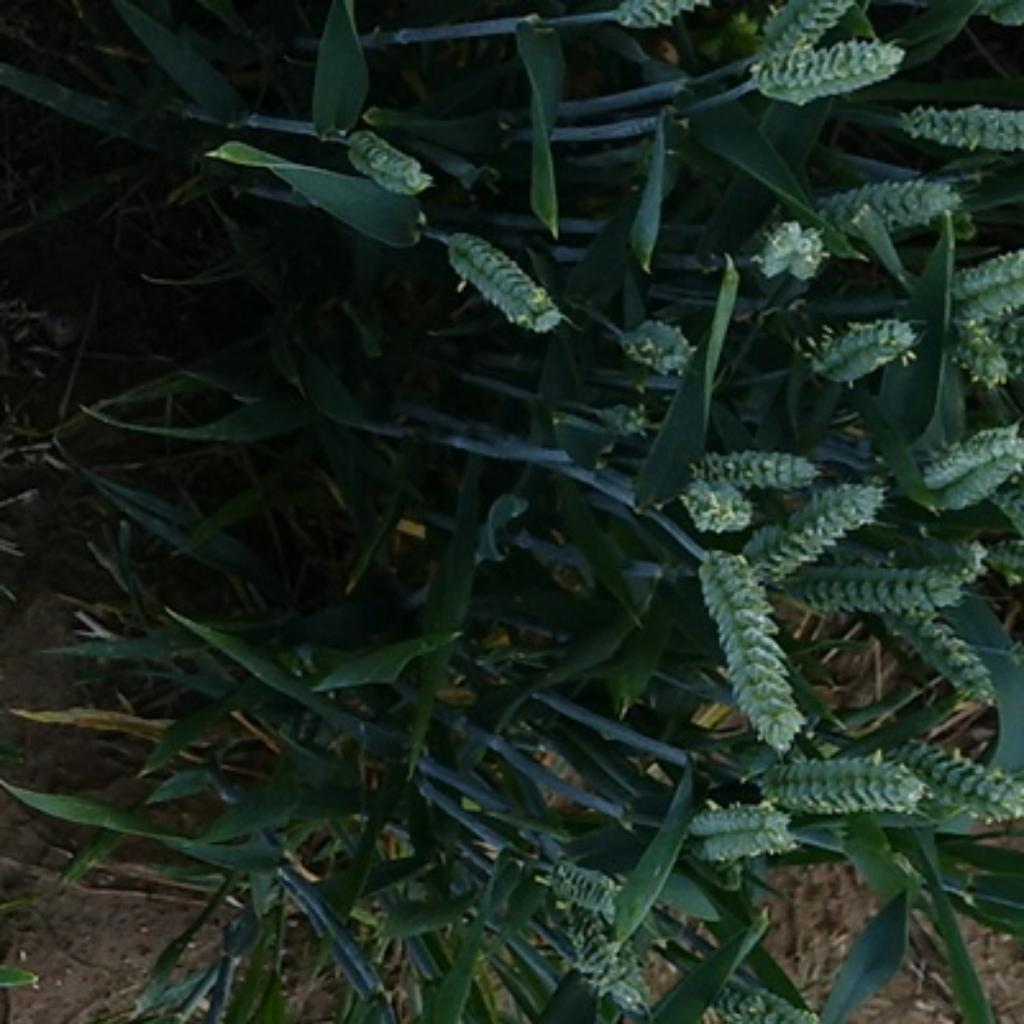0-0: (686, 550, 807, 748), (857, 601, 1000, 717), (444, 222, 567, 337), (760, 744, 936, 819), (896, 727, 1024, 829), (742, 39, 919, 110), (785, 566, 971, 629), (819, 166, 970, 238), (926, 419, 1024, 522), (768, 471, 890, 550), (803, 309, 921, 389), (338, 122, 441, 207), (563, 912, 641, 1023), (680, 440, 834, 496), (678, 791, 791, 867), (904, 91, 1024, 157), (852, 525, 984, 578), (547, 857, 640, 929), (596, 0, 798, 33), (695, 971, 820, 1024), (764, 1, 874, 60), (742, 212, 826, 289), (670, 468, 760, 537), (609, 307, 698, 376), (947, 320, 1024, 396), (952, 245, 1024, 322), (975, 532, 1024, 596), (588, 397, 652, 436)
